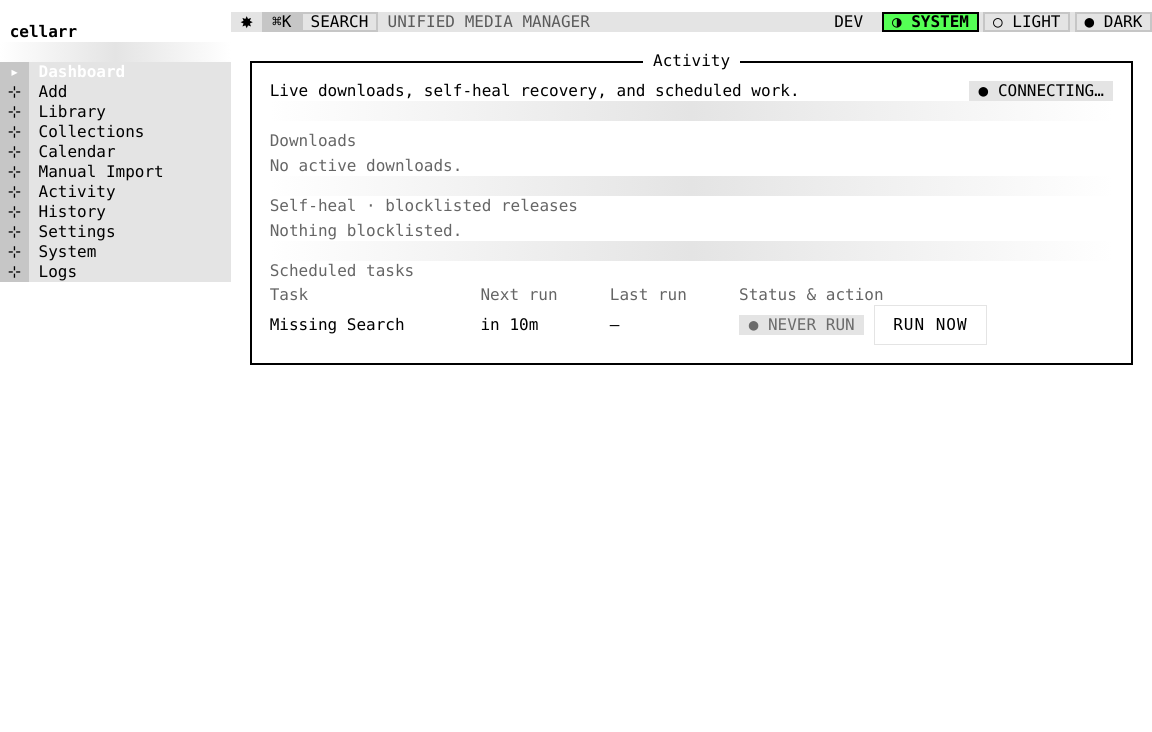
Test: Activity screen › toasts an error when Run now fails
This screenshot has width=1152, height=732.
Click the button "Run now": point(930, 325) x1=874 y1=305 x2=987 y2=345
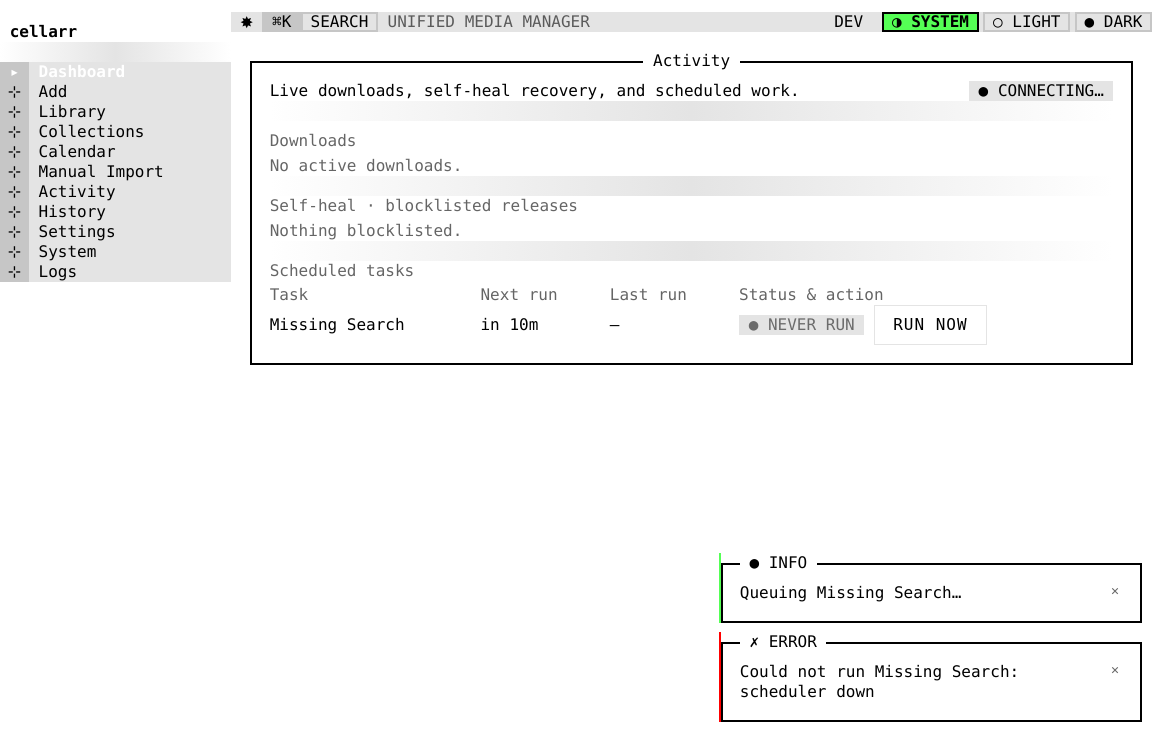
Result: the text "Could not run Missing Search: scheduler down" is shown at x1=740 y1=662 x2=1029 y2=701
